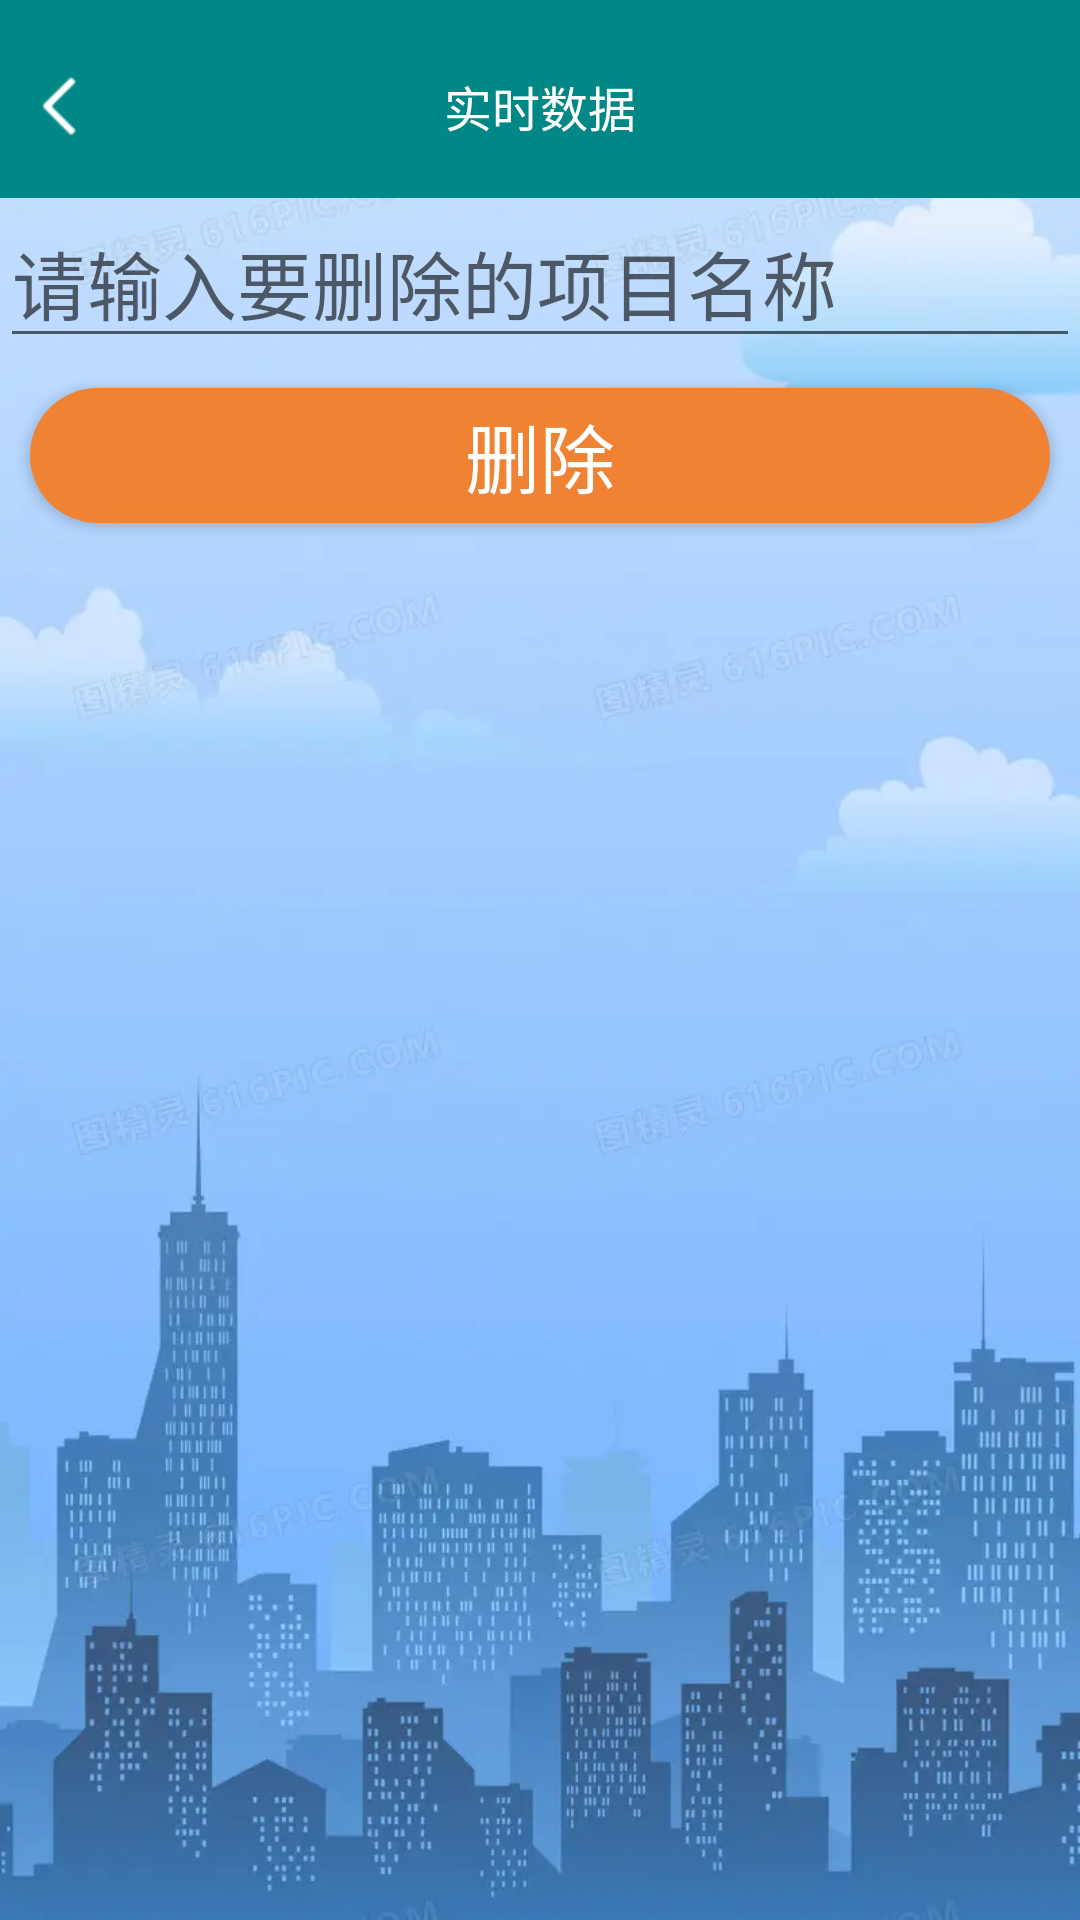

Icon bounding boxes for this 1080px x 1920px phone screenshot, format (x1, y1, x2, y2):
back arrow: (42, 77, 76, 135)
